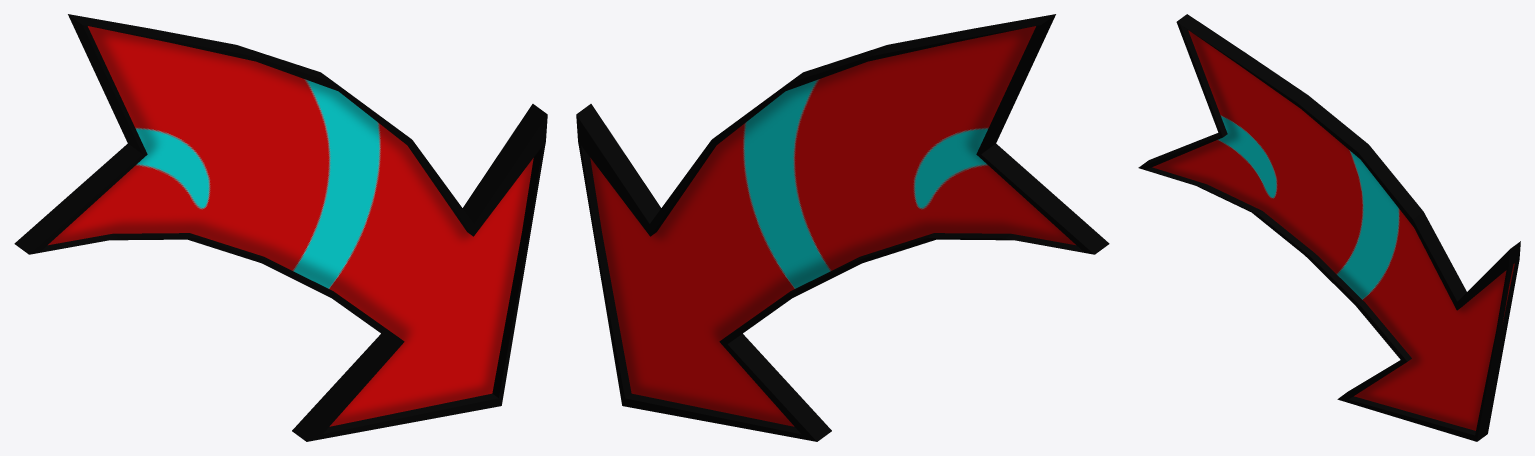
File: MOD_Arrow2.FBX
3 views of the same model, side by side, from view 1: azimuth 30°, elevation 25°; view 2: azimuth 150°, elevation 25°; view 3: azimuth 330°, elevation 25° (orthographic). The views are drawn at different scales.
Parts seen in each view (by area): view 1: MOD_Arrow2; view 2: MOD_Arrow2; view 3: MOD_Arrow2.
Boxes of the visible parts, bbox=[...] form: MOD_Arrow2: bbox=[14, 14, 547, 441]; MOD_Arrow2: bbox=[576, 14, 1109, 441]; MOD_Arrow2: bbox=[1138, 14, 1520, 441].
Bounding box in the file's own units: 159 × 141 × 7.94.
1 material, 1 textured.
